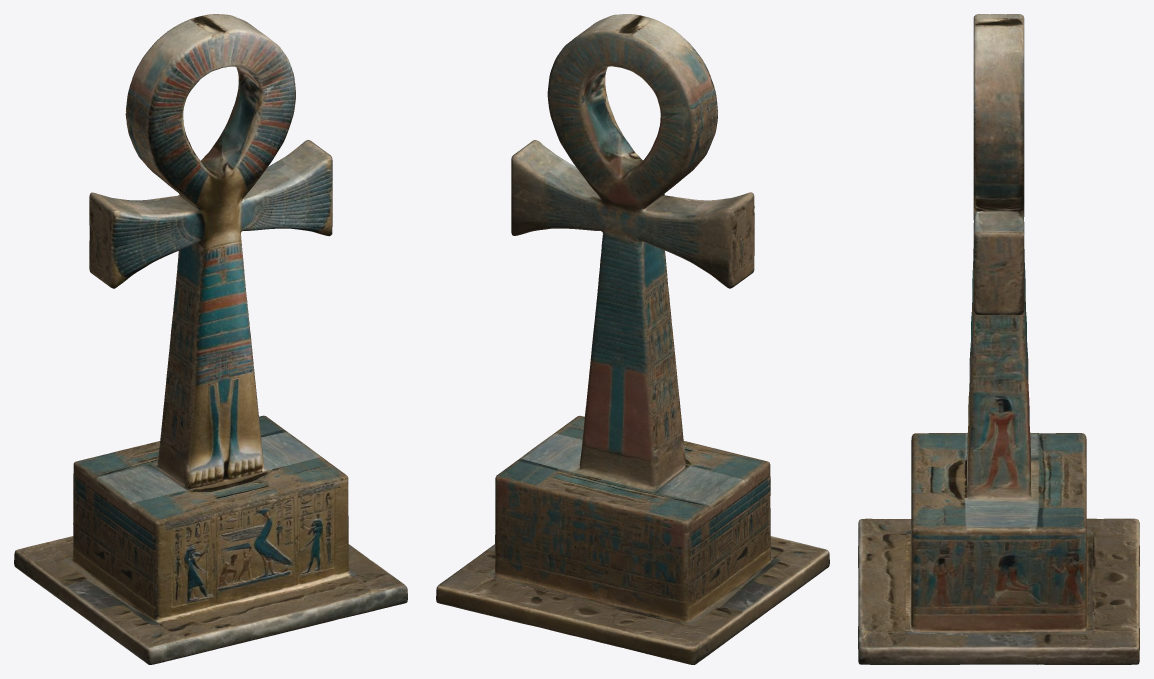
Rendered from Meshy_AI_Egyptian_artifact_0310040455_texture.glb.
3 renders of one model, left to right at view 1: azimuth 30°, elevation 25°; view 2: azimuth 150°, elevation 25°; view 3: azimuth 270°, elevation 25°, orthographic. The views are drawn at different scales.
Size of the model in its own units: 0.9715 by 2 by 0.8852.
Materials: 1 (1 with a texture image).
